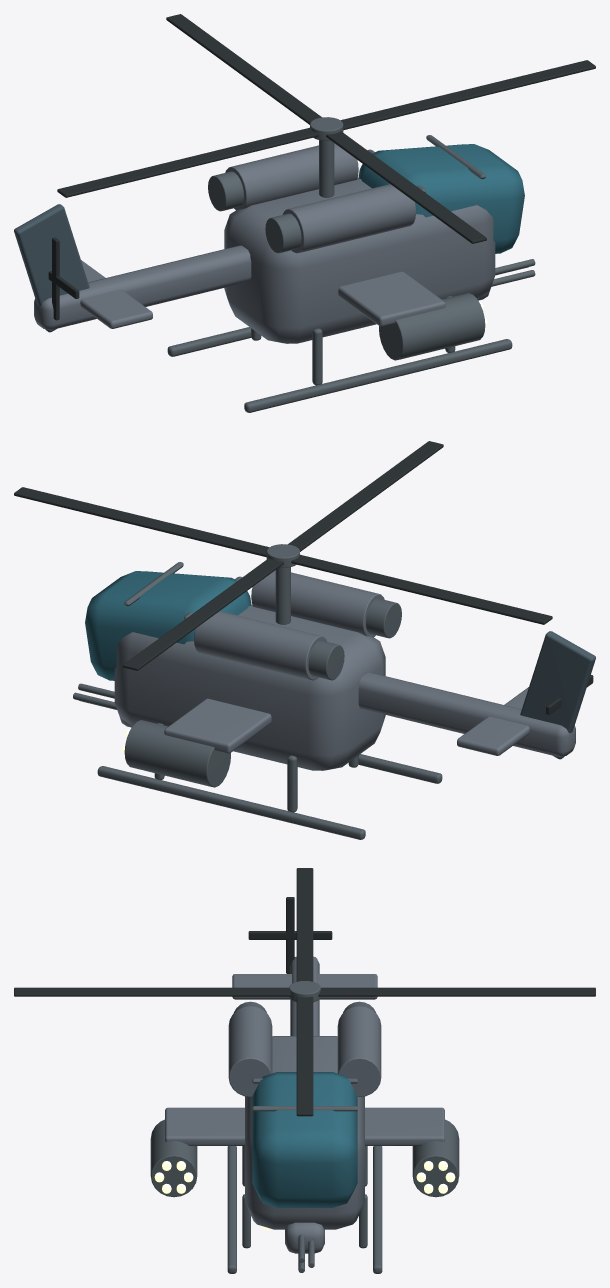
Rendered from storm.glb.
3 views of the same model, one above another, from view 1: azimuth 30°, elevation 25°; view 2: azimuth 150°, elevation 25°; view 3: azimuth 270°, elevation 25° (orthographic). The views are drawn at different scales.
Visible parts, largest first — view 1: Armoured fuselage, Tandem canopy, Tail boom, Engine, Rocket pod, Engine.001, Vertical tail, Weapon wing, Landing skid, Rotor blade.002, Rotor blade, Rotor blade.003 (+9 smaller); view 2: Armoured fuselage, Tandem canopy, Tail boom, Engine.001, Vertical tail, Rocket pod.001, Engine, Weapon wing.001, Landing skid.001, Rotor blade.002, Rotor blade, Rotor blade.001 (+8 smaller); view 3: Tandem canopy, Armoured fuselage, Engine, Engine.001, Weapon wing, Weapon wing.001, Rotor blade.001, Rotor blade.003, Rocket pod, Rocket pod.001, Rotor blade, Tail stabilizer (+8 smaller).
Part boxes in pixels (x1,y1,x2,y2): Armoured fuselage: [224, 177, 495, 343]; Tandem canopy: [358, 144, 524, 253]; Tail boom: [34, 245, 251, 329]; Engine: [282, 184, 415, 253]; Rocket pod: [379, 293, 485, 360]; Engine.001: [225, 143, 358, 209]; Vertical tail: [14, 204, 89, 332]; Weapon wing: [338, 271, 445, 326]; Landing skid: [244, 339, 512, 412]; Rotor blade.002: [57, 127, 318, 197]; Rotor blade: [340, 60, 595, 130]; Rotor blade.003: [326, 131, 486, 243]; Armoured fuselage: [114, 604, 385, 770]; Tandem canopy: [85, 571, 251, 680]; Tail boom: [358, 672, 575, 756]; Engine.001: [194, 611, 327, 680]; Vertical tail: [520, 631, 595, 759]; Rocket pod.001: [124, 720, 230, 787]; Engine: [251, 570, 384, 636]; Weapon wing.001: [164, 698, 271, 753]; Landing skid.001: [97, 766, 365, 839]; Rotor blade.002: [291, 554, 552, 624]; Rotor blade: [14, 487, 269, 557]; Rotor blade.001: [123, 558, 283, 670]; Tandem canopy: [252, 1072, 357, 1207]; Armoured fuselage: [245, 1036, 364, 1229]; Engine: [228, 1006, 272, 1096]; Engine.001: [337, 1006, 381, 1096]; Weapon wing: [165, 1107, 244, 1145]; Weapon wing.001: [365, 1107, 444, 1145]; Rotor blade.001: [318, 987, 595, 996]; Rotor blade.003: [14, 987, 291, 996]; Rocket pod: [150, 1119, 197, 1197]; Rocket pod.001: [412, 1119, 459, 1197]; Rotor blade: [296, 996, 313, 1116]; Tail stabilizer: [232, 974, 377, 999].
Bounding box in the file's own units: 8.69 × 3.34 × 8.
